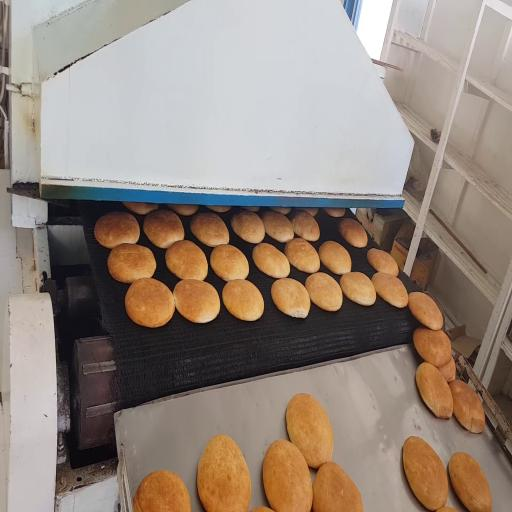bread: (197, 435, 251, 511), (263, 440, 312, 511), (286, 394, 333, 468), (403, 437, 448, 510), (313, 462, 363, 511), (449, 453, 491, 511), (125, 278, 174, 327), (133, 471, 190, 511), (416, 363, 453, 418), (173, 280, 220, 323), (107, 244, 156, 283), (449, 381, 485, 433), (223, 280, 264, 321), (166, 240, 207, 280), (95, 212, 139, 248), (271, 278, 310, 318), (143, 210, 184, 248), (413, 328, 451, 367), (211, 245, 249, 281), (306, 273, 342, 311), (408, 292, 443, 330), (372, 272, 408, 308), (253, 243, 290, 278), (191, 213, 229, 246), (285, 238, 320, 273), (340, 272, 376, 305), (231, 211, 265, 243), (319, 241, 351, 274), (262, 211, 294, 243), (367, 248, 398, 276), (439, 356, 456, 406), (292, 211, 319, 241), (339, 219, 367, 247), (123, 202, 158, 215), (168, 204, 198, 216), (324, 208, 345, 218), (297, 208, 318, 216), (270, 207, 291, 214), (207, 206, 231, 212), (242, 207, 260, 212), (251, 507, 272, 511), (437, 507, 456, 511)
